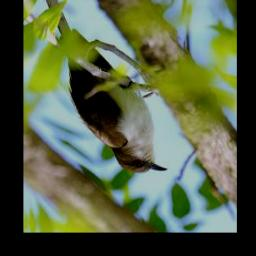Cuckoo: (31, 0, 168, 176)
